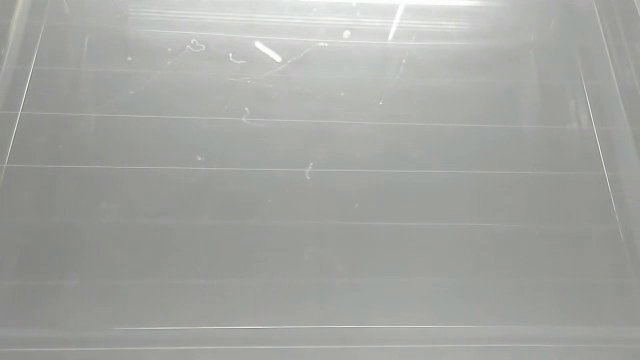alpha: (252, 37, 285, 65), (386, 1, 408, 43), (340, 28, 355, 41)
